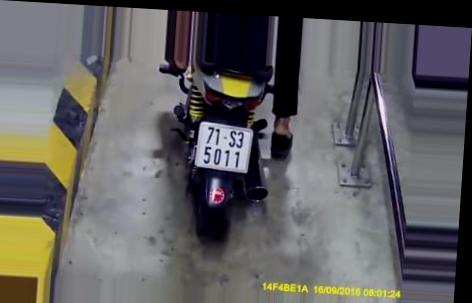License_Plate: (186, 117, 257, 174)
